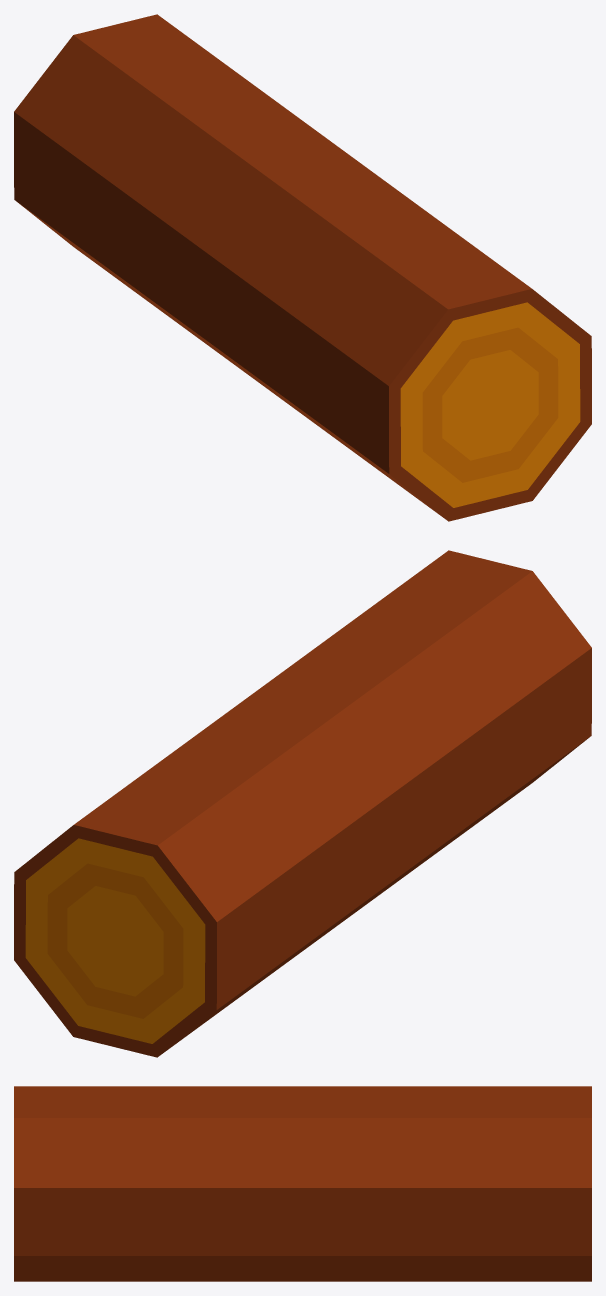
Rendered from Small Log_1.fbx.
3 views of the same model, one above another, from view 1: azimuth 30°, elevation 25°; view 2: azimuth 150°, elevation 25°; view 3: azimuth 270°, elevation 25° (orthographic). The views are drawn at different scales.
Parts seen in each view (by area): view 1: Circle.046; view 2: Circle.046; view 3: Circle.046.
Part boxes in pixels (left/top/right/bottom): Circle.046: left=14, top=14, right=591, bottom=521; Circle.046: left=14, top=550, right=591, bottom=1057; Circle.046: left=14, top=1086, right=591, bottom=1281.
Size of the model in its own units: 7.36 by 7.36 by 23.54.
